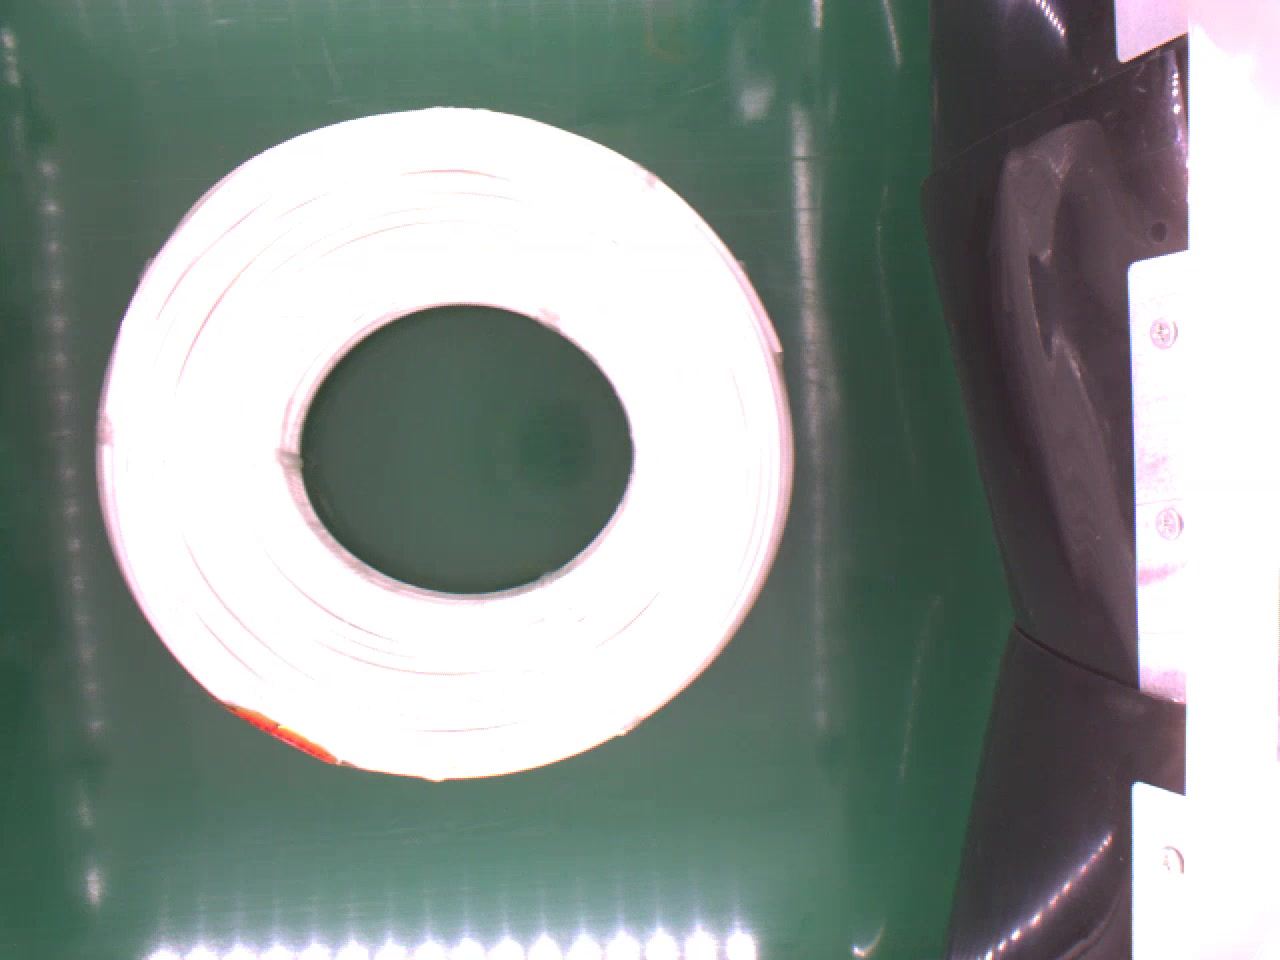white: (91, 96, 798, 774)
